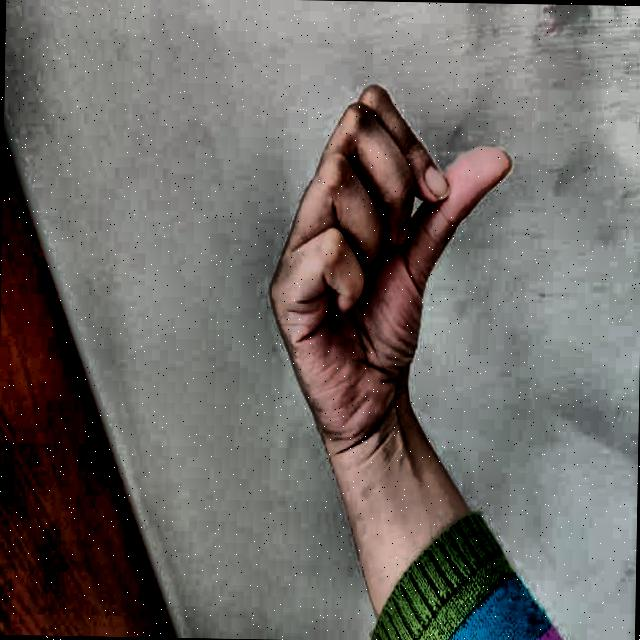Ay: (240, 63, 533, 457)
